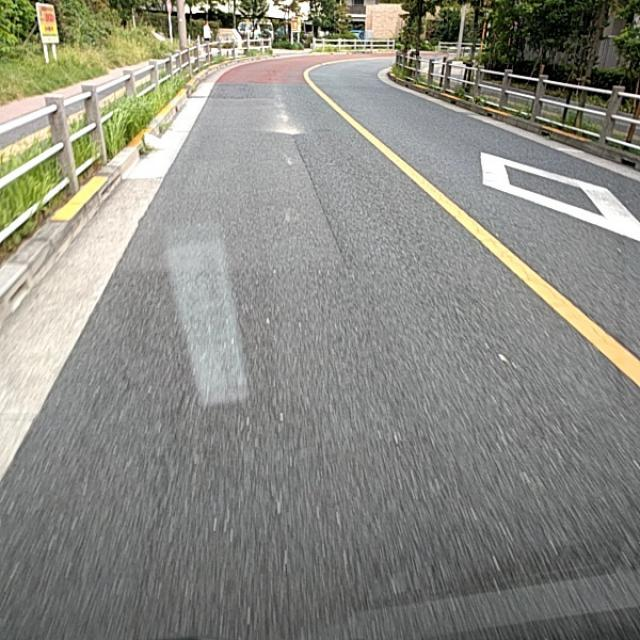pothole: (308, 261, 377, 348)
